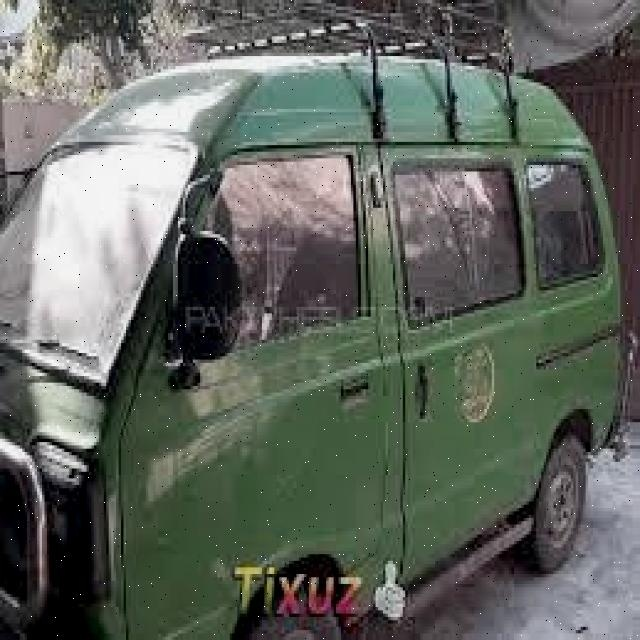Van: (0, 39, 627, 640)
